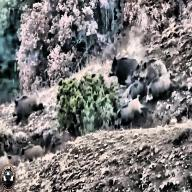boar: (6, 86, 43, 126), (110, 46, 142, 88), (136, 55, 168, 90), (119, 93, 142, 127), (146, 78, 175, 101)
